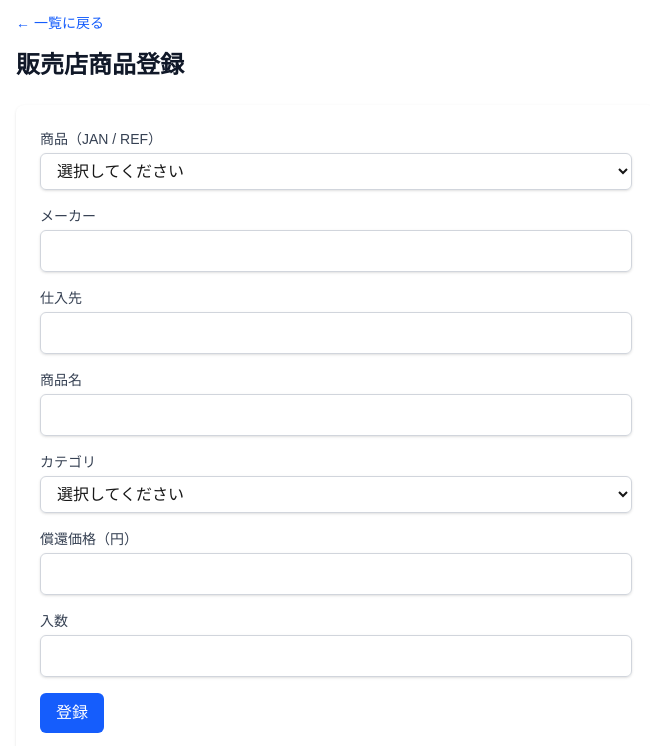
Scenario: NewDistributorProductPage › ネットワークエラーで submitError を表示する
Select "4900000000001 / REF-1" in the dropdown labelled "商品（JAN / REF）" at (336, 172), box [40,153,632,190]
Type "メーカーA" into the field labelled "メーカー" at (336, 251), box [40,230,632,272]
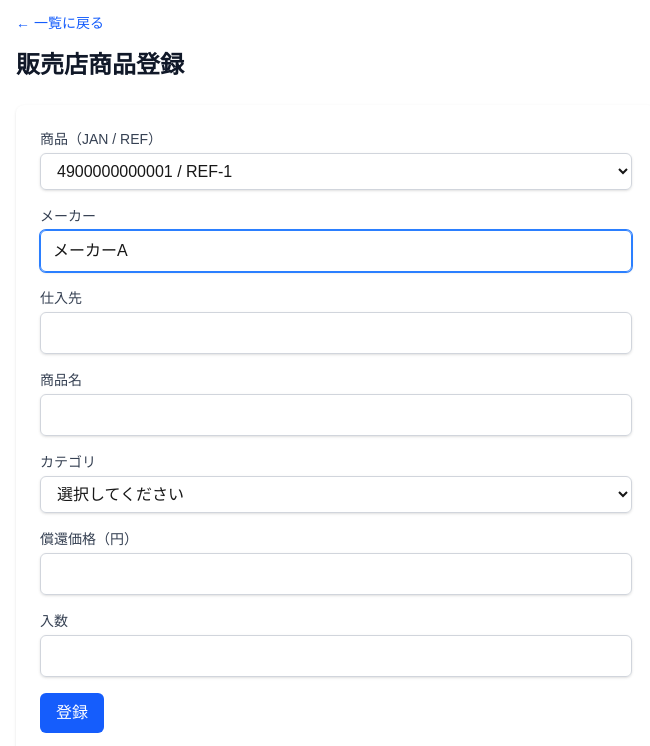
Type "仕入先A" into the field labelled "仕入先" at (336, 333), box [40,312,632,354]
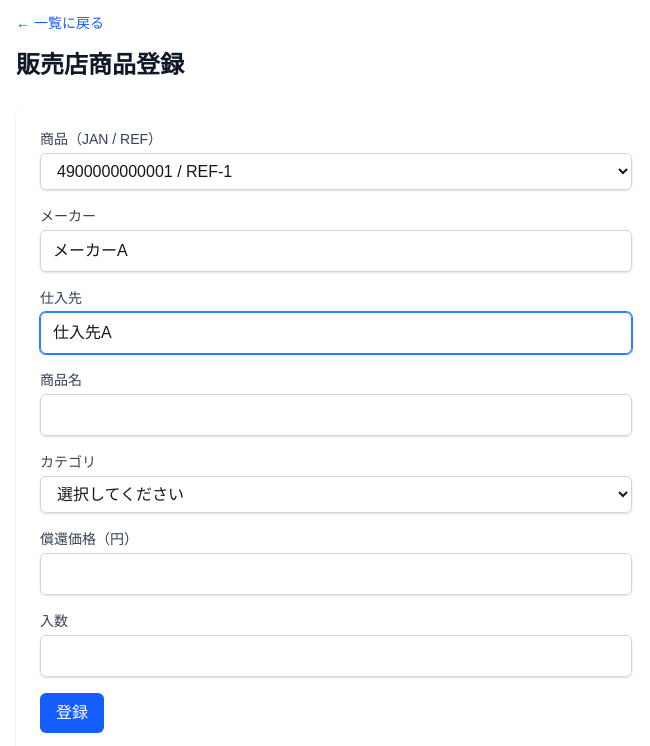
Type "商品A" into the field labelled "商品名" at (336, 415), box [40,394,632,436]
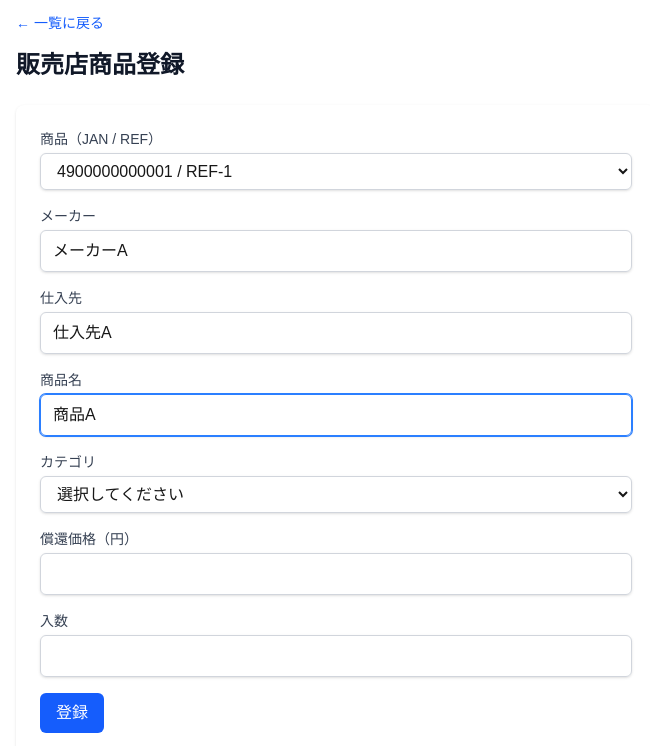
Select "カテゴリA" in the dropdown labelled "カテゴリ" at (336, 494), box [40,476,632,513]
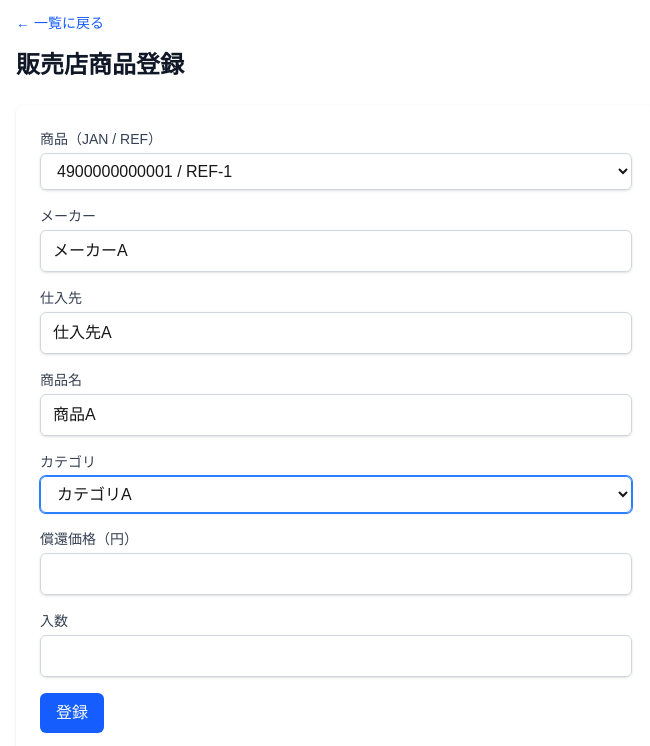
Type "10" into the number field labelled "入数" at (336, 656), box [40,635,632,677]
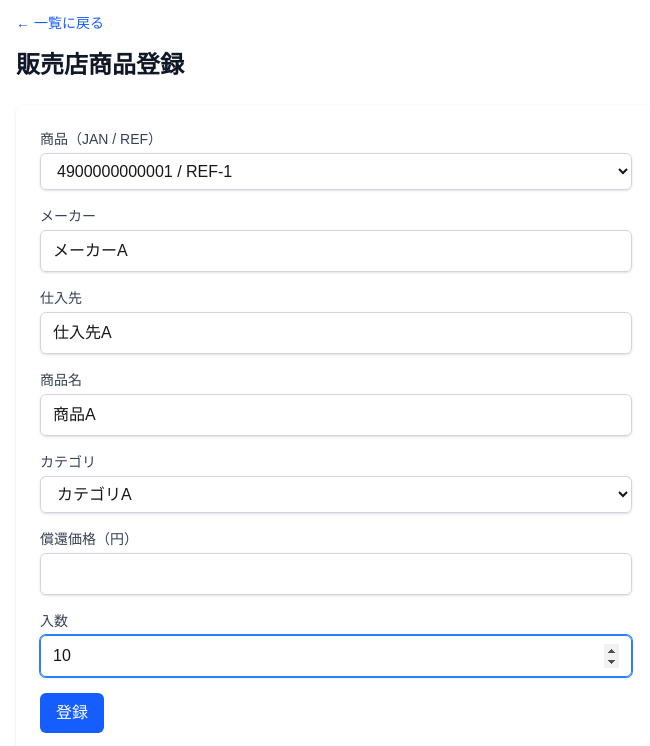
Click the button "登録" at (72, 713), box [40,693,104,733]
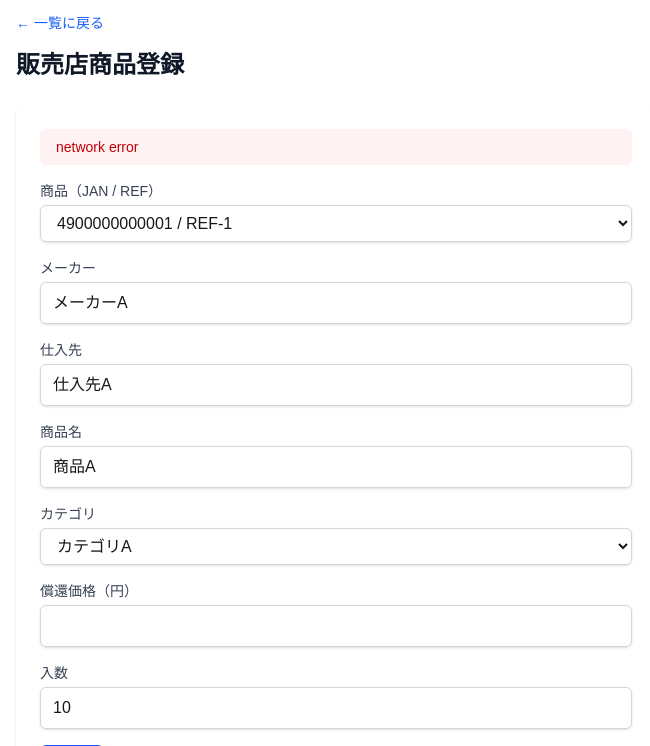
Expected: the text "network error" is shown, [40,129,632,165]
